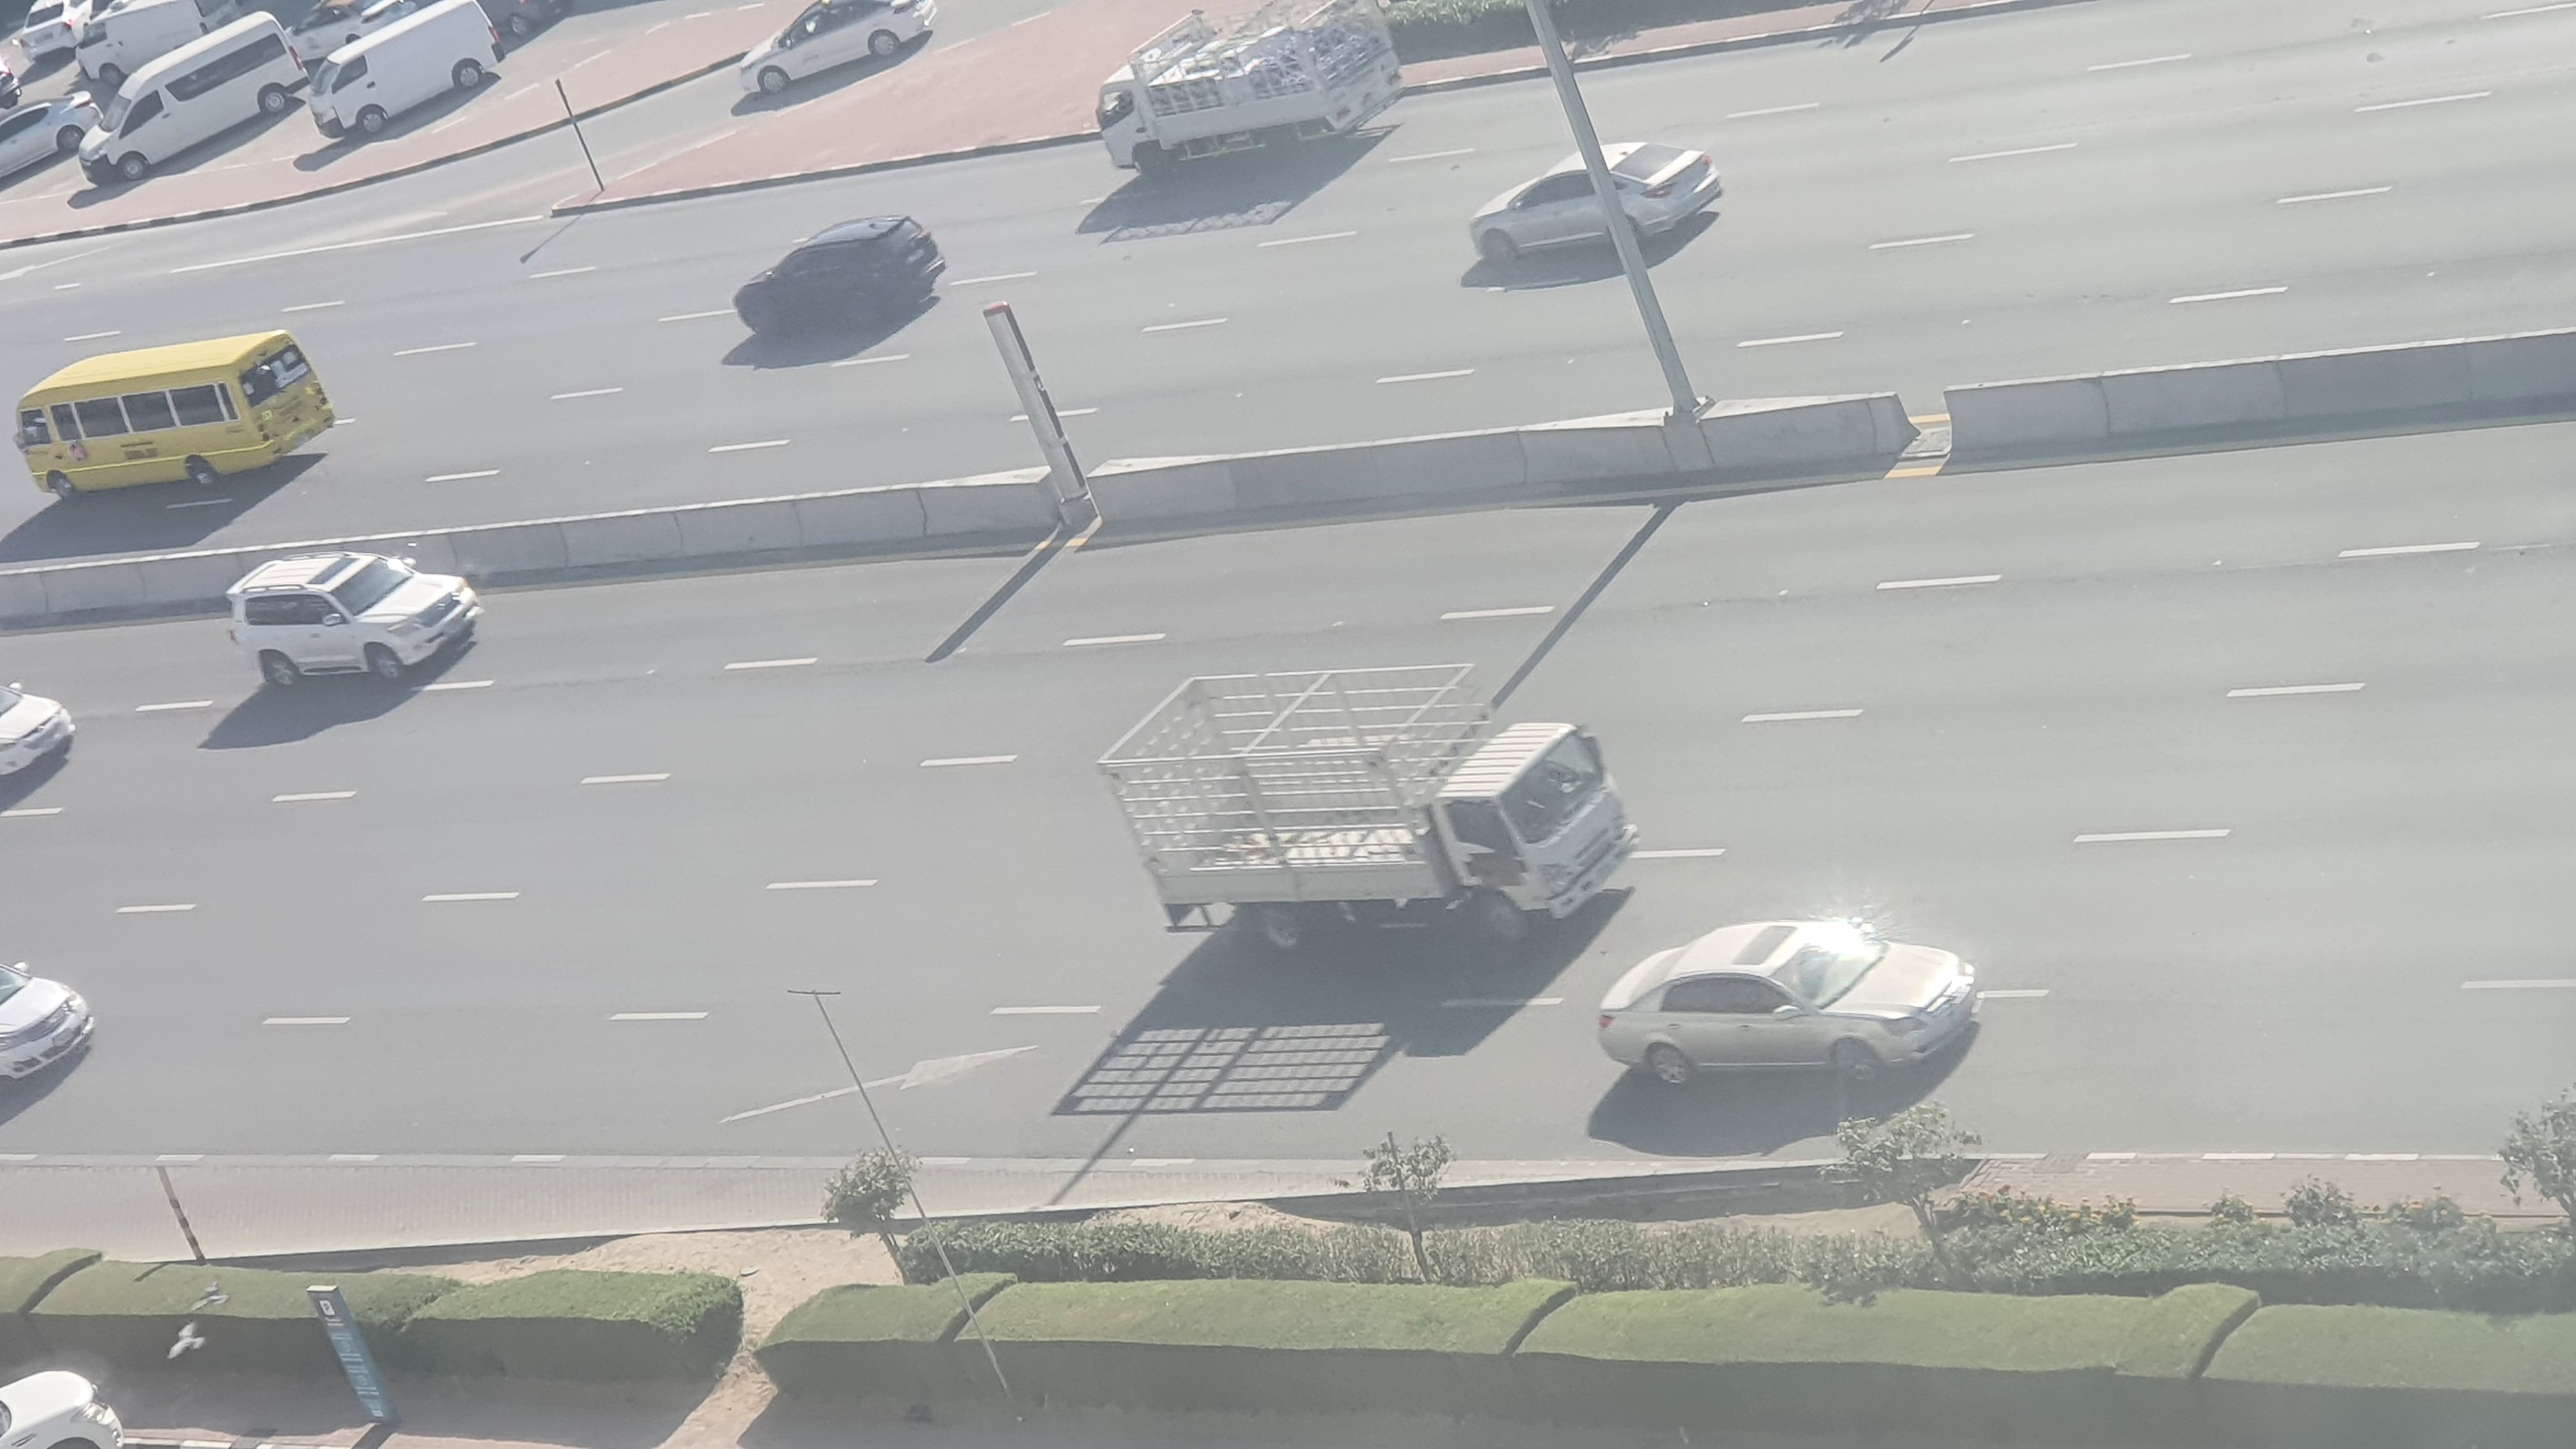Sunroof: (1587, 920, 1978, 1095), (223, 556, 481, 694)
